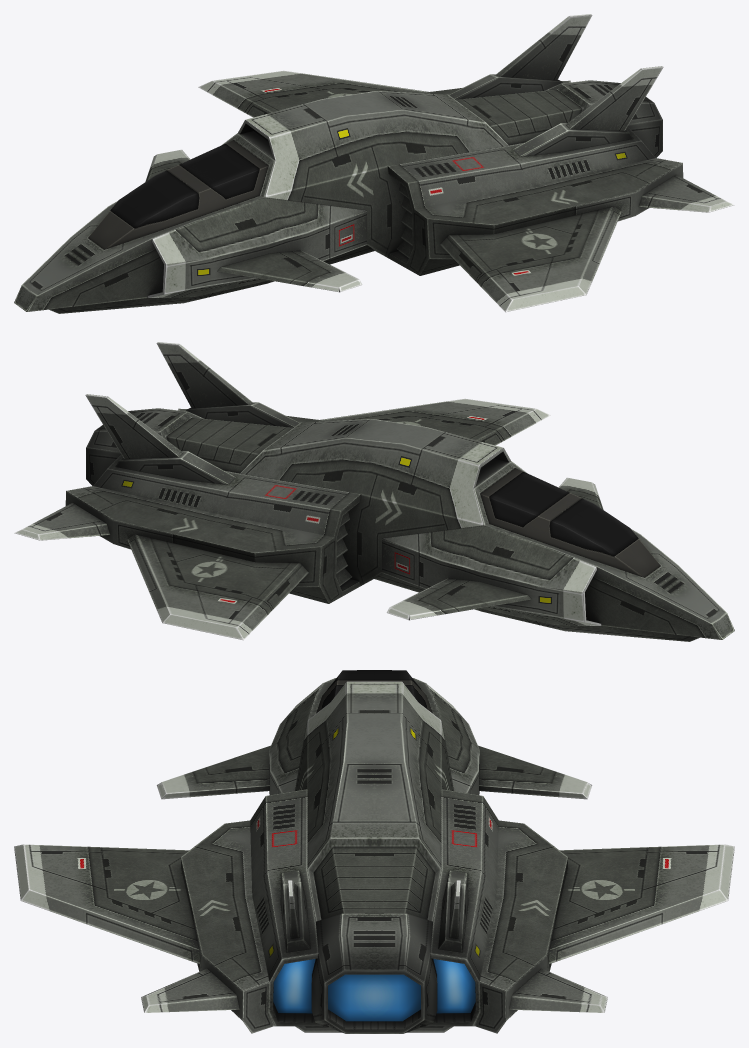
The model's file is space_frigate_4.FBX.
3 views of the same model, one above another, from view 1: azimuth 30°, elevation 25°; view 2: azimuth 150°, elevation 25°; view 3: azimuth 270°, elevation 25° (orthographic). The views are drawn at different scales.
Visible parts, largest first — view 1: space_frigate_4; view 2: space_frigate_4; view 3: space_frigate_4.
Boxes of the visible parts, bbox=[...] form: space_frigate_4: bbox=[14, 14, 734, 313]; space_frigate_4: bbox=[14, 342, 734, 641]; space_frigate_4: bbox=[14, 670, 734, 1033].
Bounding box in the file's own units: 48.42 × 11.32 × 41.53.
1 material, 1 textured.
